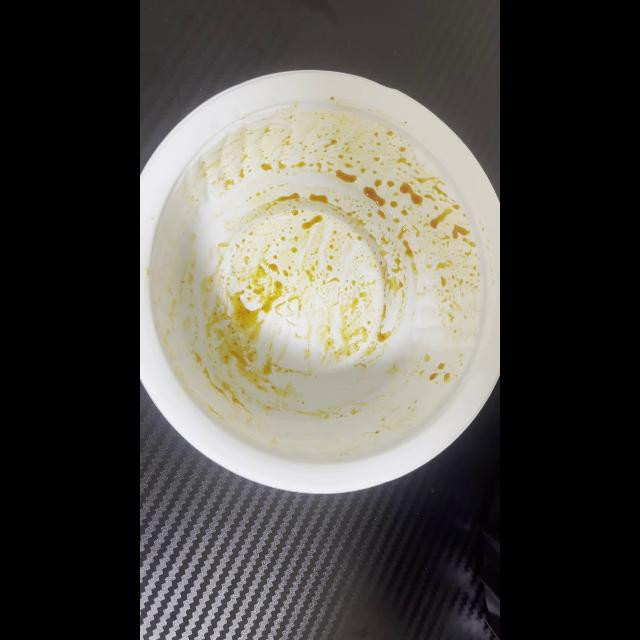dirty: (140, 71, 496, 485)
